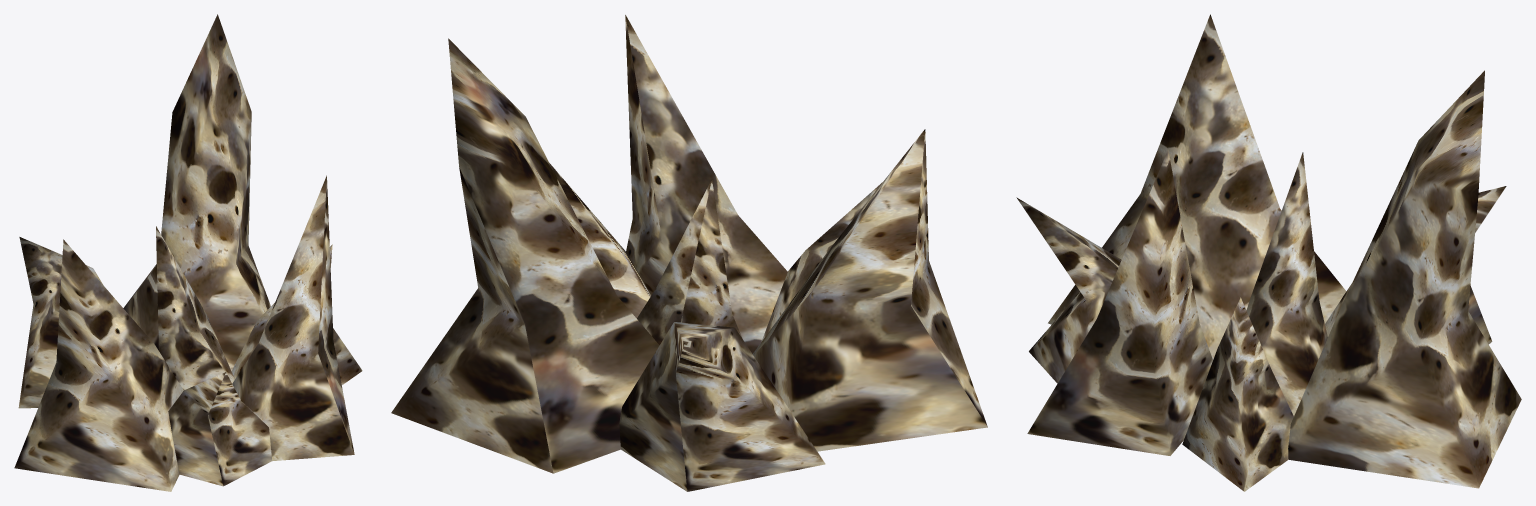
File: CoralStone-05_LOD2.fbx
3 views of the same model, side by side, from view 1: azimuth 30°, elevation 25°; view 2: azimuth 150°, elevation 25°; view 3: azimuth 270°, elevation 25° (orthographic). The views are drawn at different scales.
Parts seen in each view (by area): view 1: CoralStone-05_low; view 2: CoralStone-05_low; view 3: CoralStone-05_low.
Part boxes in pixels (bbox=[...]): CoralStone-05_low: bbox=[14, 14, 362, 491]; CoralStone-05_low: bbox=[391, 15, 987, 491]; CoralStone-05_low: bbox=[1016, 14, 1521, 491].
Size of the model in its own units: 0.2082 by 0.1661 by 0.1954.
